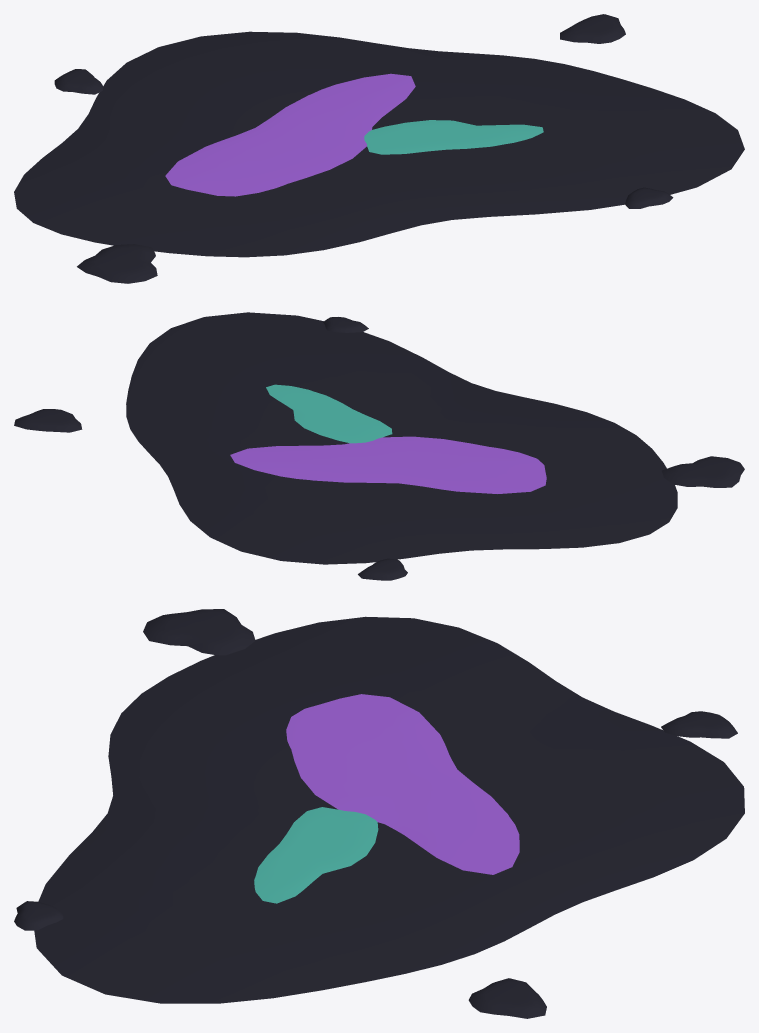
File: oil.glb
3 views of the same model, one above another, from view 1: azimuth 30°, elevation 25°; view 2: azimuth 150°, elevation 25°; view 3: azimuth 270°, elevation 25° (orthographic). The views are drawn at different scales.
Visible parts, largest first — view 1: oil; view 2: oil; view 3: oil.
Boxes of the visible parts, x1,y1,x2,y2 form: oil: (14, 14, 744, 283); oil: (14, 312, 744, 580); oil: (14, 609, 744, 1018).
Bounding box in the file's own units: 2.37 × 0.022 × 1.79.
